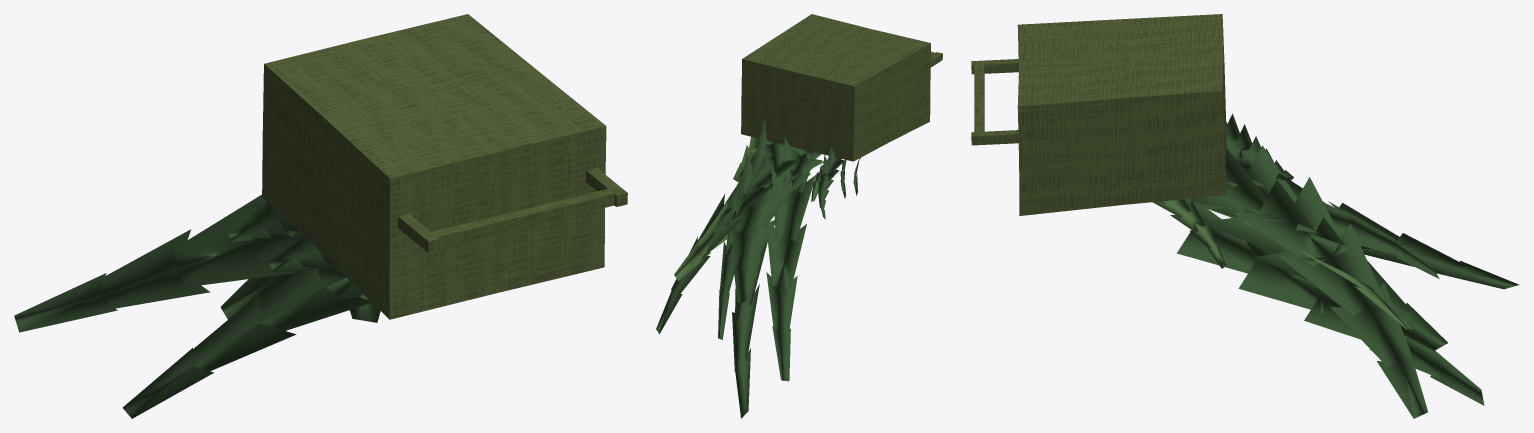
The model's file is pack_frame_foliage.glb.
3 views of the same model, side by side, from view 1: azimuth 30°, elevation 25°; view 2: azimuth 150°, elevation 25°; view 3: azimuth 270°, elevation 25° (orthographic). The views are drawn at different scales.
Parts seen in each view (by area): view 1: pack_frame_foliage, pack_frame_foliage_sprig_12, pack_frame_foliage_sprig_7, pack_frame_foliage_sprig_1, pack_frame_foliage_sprig_0, pack_frame_foliage_sprig_10; view 2: pack_frame_foliage, pack_frame_foliage_sprig_12, pack_frame_foliage_sprig_5, pack_frame_foliage_sprig_13, pack_frame_foliage_sprig_7, pack_frame_foliage_sprig_10, pack_frame_foliage_sprig_9, pack_frame_foliage_sprig_6, pack_frame_foliage_sprig_1, pack_frame_foliage_sprig_2, pack_frame_foliage_sprig_11; view 3: pack_frame_foliage, pack_frame_foliage_sprig_13, pack_frame_foliage_sprig_7, pack_frame_foliage_sprig_10, pack_frame_foliage_sprig_12, pack_frame_foliage_sprig_5, pack_frame_foliage_sprig_11, pack_frame_foliage_sprig_1, pack_frame_foliage_sprig_9.
Boxes of the visible parts, x1=… form: pack_frame_foliage: x1=262, y1=14, x2=627, y2=319; pack_frame_foliage_sprig_12: x1=14, y1=194, x2=303, y2=332; pack_frame_foliage_sprig_7: x1=122, y1=265, x2=371, y2=418; pack_frame_foliage_sprig_1: x1=228, y1=201, x2=299, y2=242; pack_frame_foliage_sprig_0: x1=268, y1=236, x2=335, y2=272; pack_frame_foliage_sprig_10: x1=220, y1=270, x2=297, y2=319; pack_frame_foliage: x1=741, y1=14, x2=942, y2=161; pack_frame_foliage_sprig_12: x1=765, y1=137, x2=816, y2=381; pack_frame_foliage_sprig_5: x1=731, y1=173, x2=798, y2=302; pack_frame_foliage_sprig_13: x1=656, y1=159, x2=799, y2=333; pack_frame_foliage_sprig_7: x1=732, y1=240, x2=767, y2=418; pack_frame_foliage_sprig_10: x1=718, y1=118, x2=769, y2=339; pack_frame_foliage_sprig_9: x1=674, y1=159, x2=823, y2=281; pack_frame_foliage_sprig_6: x1=789, y1=146, x2=821, y2=192; pack_frame_foliage_sprig_1: x1=818, y1=145, x2=844, y2=219; pack_frame_foliage_sprig_2: x1=759, y1=138, x2=784, y2=180; pack_frame_foliage_sprig_11: x1=733, y1=136, x2=759, y2=182; pack_frame_foliage: x1=971, y1=14, x2=1226, y2=215; pack_frame_foliage_sprig_13: x1=1232, y1=145, x2=1427, y2=418; pack_frame_foliage_sprig_7: x1=1177, y1=199, x2=1484, y2=405; pack_frame_foliage_sprig_10: x1=1189, y1=148, x2=1447, y2=350; pack_frame_foliage_sprig_12: x1=1238, y1=162, x2=1519, y2=289; pack_frame_foliage_sprig_5: x1=1191, y1=193, x2=1439, y2=278; pack_frame_foliage_sprig_11: x1=1153, y1=199, x2=1226, y2=268; pack_frame_foliage_sprig_1: x1=1226, y1=114, x2=1293, y2=180; pack_frame_foliage_sprig_9: x1=1185, y1=200, x2=1412, y2=329.
Bounding box in the file's own units: 0.4755 × 0.7391 × 0.972.
2 materials, 2 textured.
